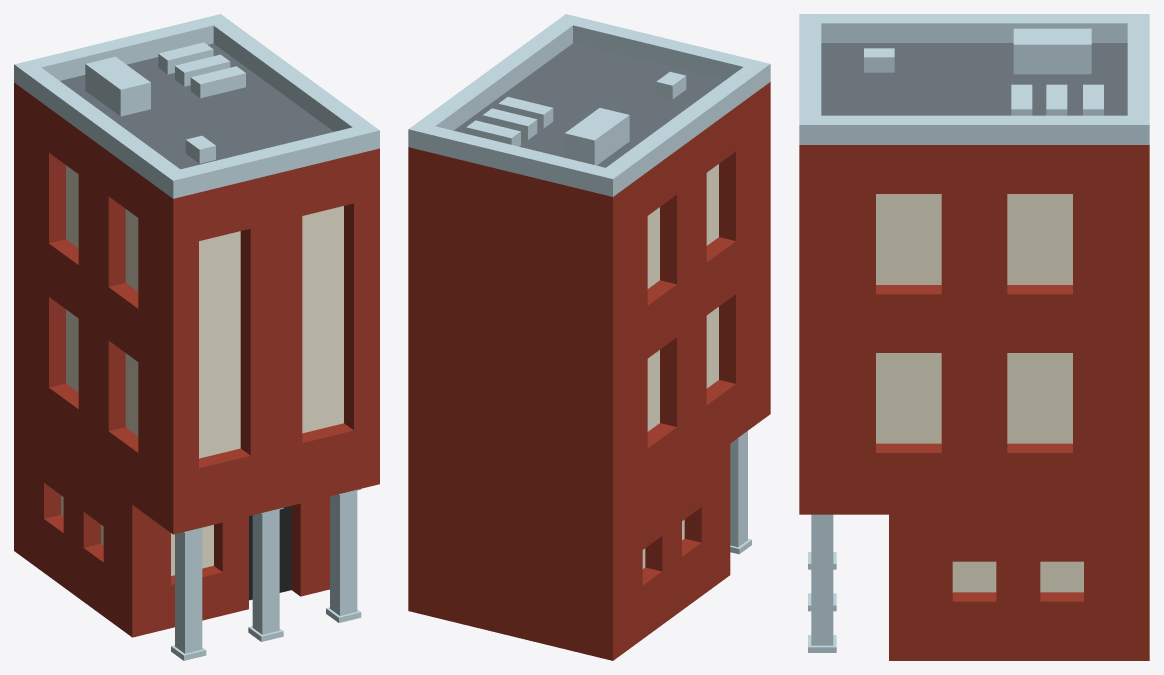
File: Building_9_Extra (Red).obj
3 renders of one model, left to right at view 1: azimuth 30°, elevation 25°; view 2: azimuth 150°, elevation 25°; view 3: azimuth 270°, elevation 25°, orthographic. The views are drawn at different scales.
Parts seen in each view (by area): view 1: Building_9_Extra_(Red); view 2: Building_9_Extra_(Red); view 3: Building_9_Extra_(Red).
Boxes of the visible parts, left/top/right/bottom form: Building_9_Extra_(Red): left=14, top=14, right=379, bottom=660; Building_9_Extra_(Red): left=408, top=14, right=770, bottom=660; Building_9_Extra_(Red): left=799, top=14, right=1149, bottom=660.
Bounding box in the file's own units: 1.2 × 2.75 × 1.6.
